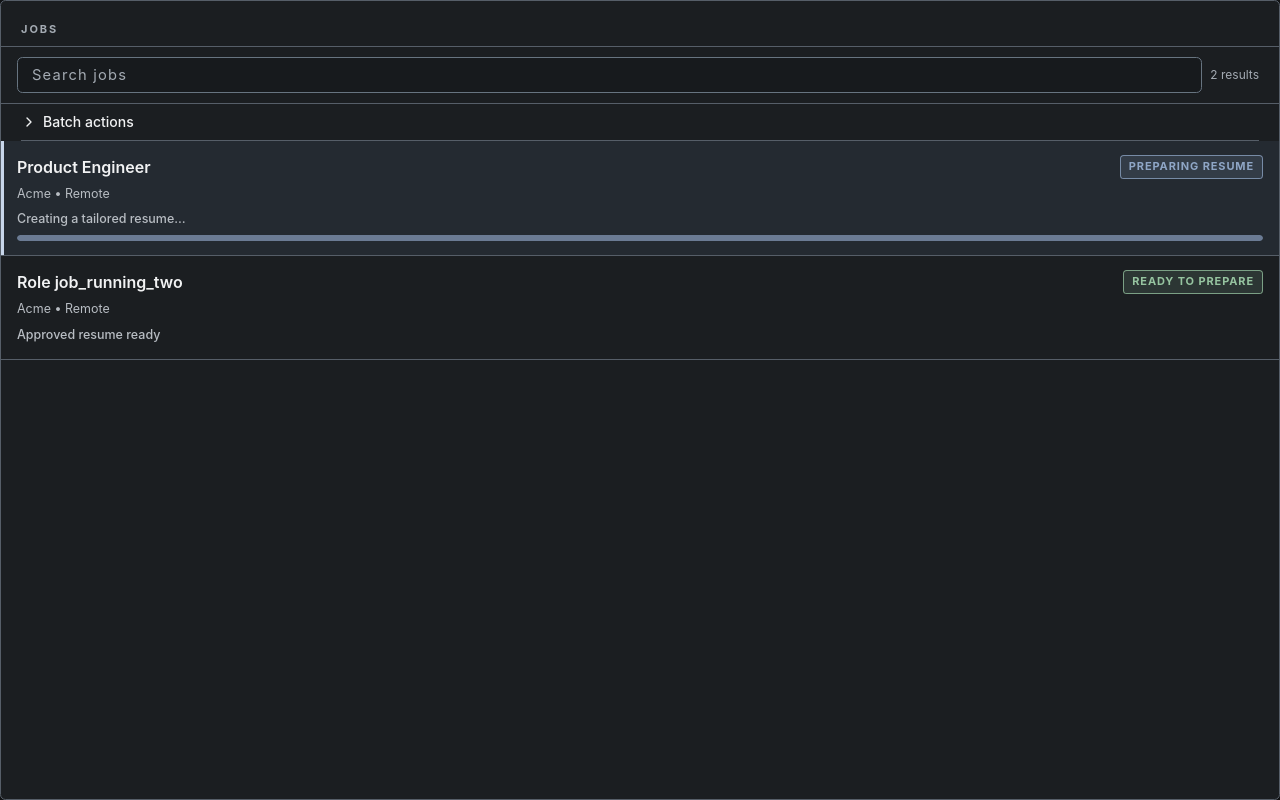
Test: ReviewQueueListPanel › swaps the draft action for live progress while preparation runs
The width and height of the screenshot is (1280, 800).
Click the heading "Batch actions" at (77, 121), box [21, 112, 134, 130]
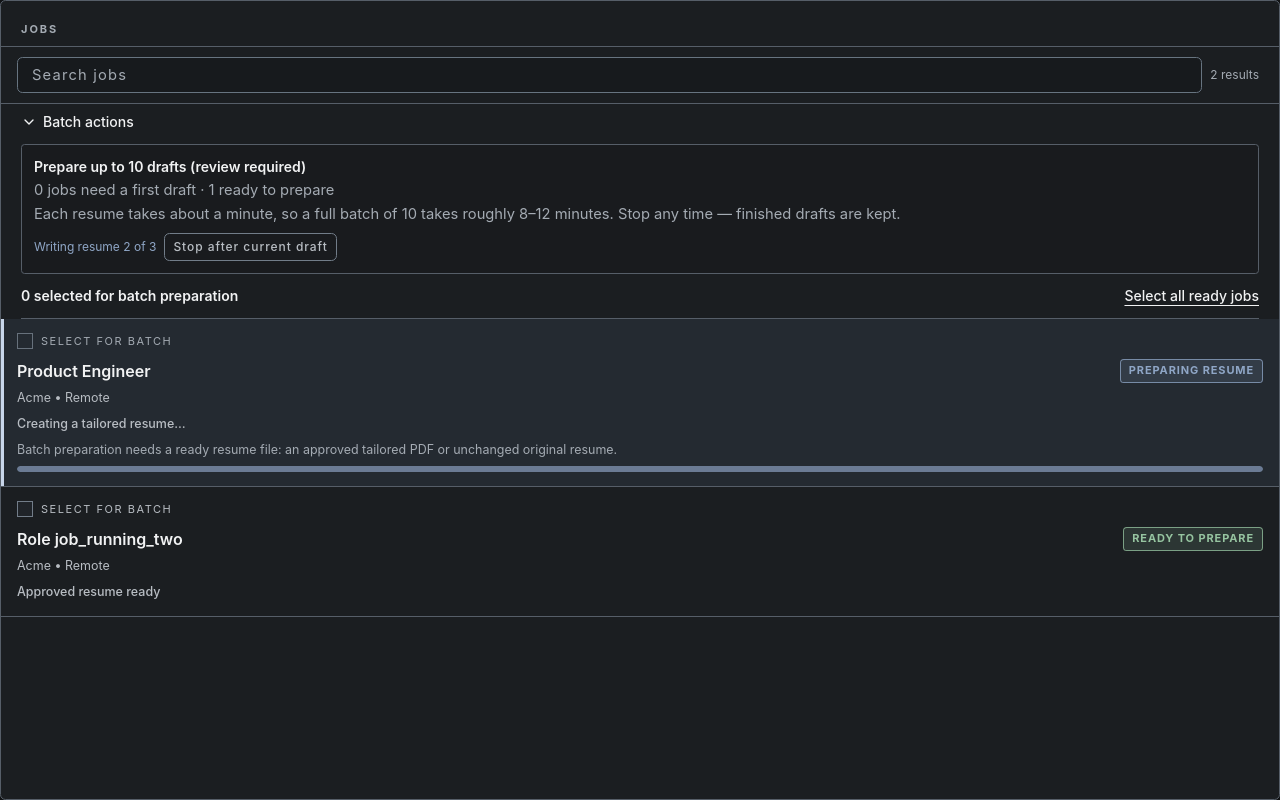
Expected: the text "Writing resume 2 of 3" is shown, [34, 239, 156, 255]
Expected: the button "Stop after current draft" is shown, [164, 233, 337, 261]
